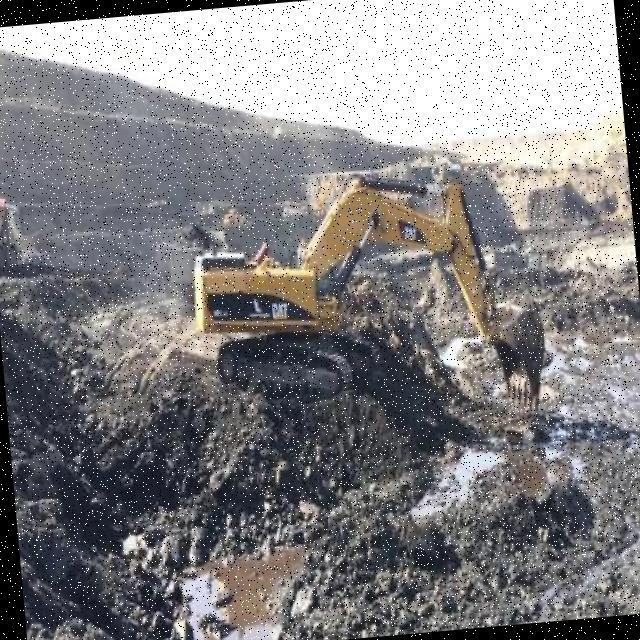Dump Truck: (0, 176, 33, 271)
Excavator: (184, 151, 548, 434)
